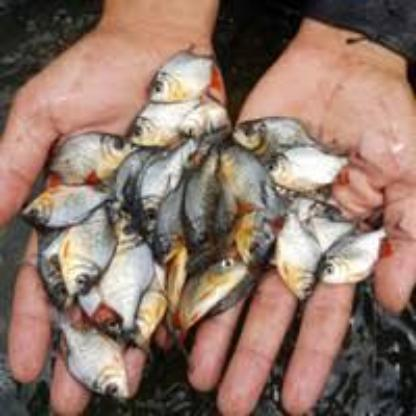ikan-pacu: (60, 208, 112, 296), (50, 124, 122, 184), (154, 48, 212, 107)
